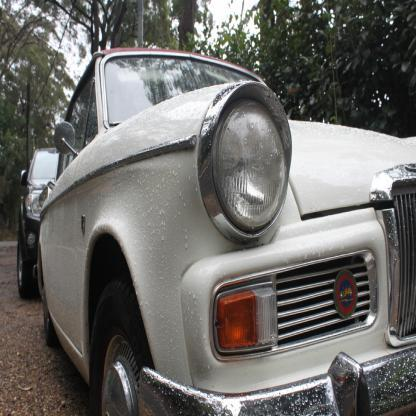car: (35, 50, 416, 416), (18, 148, 61, 298)
